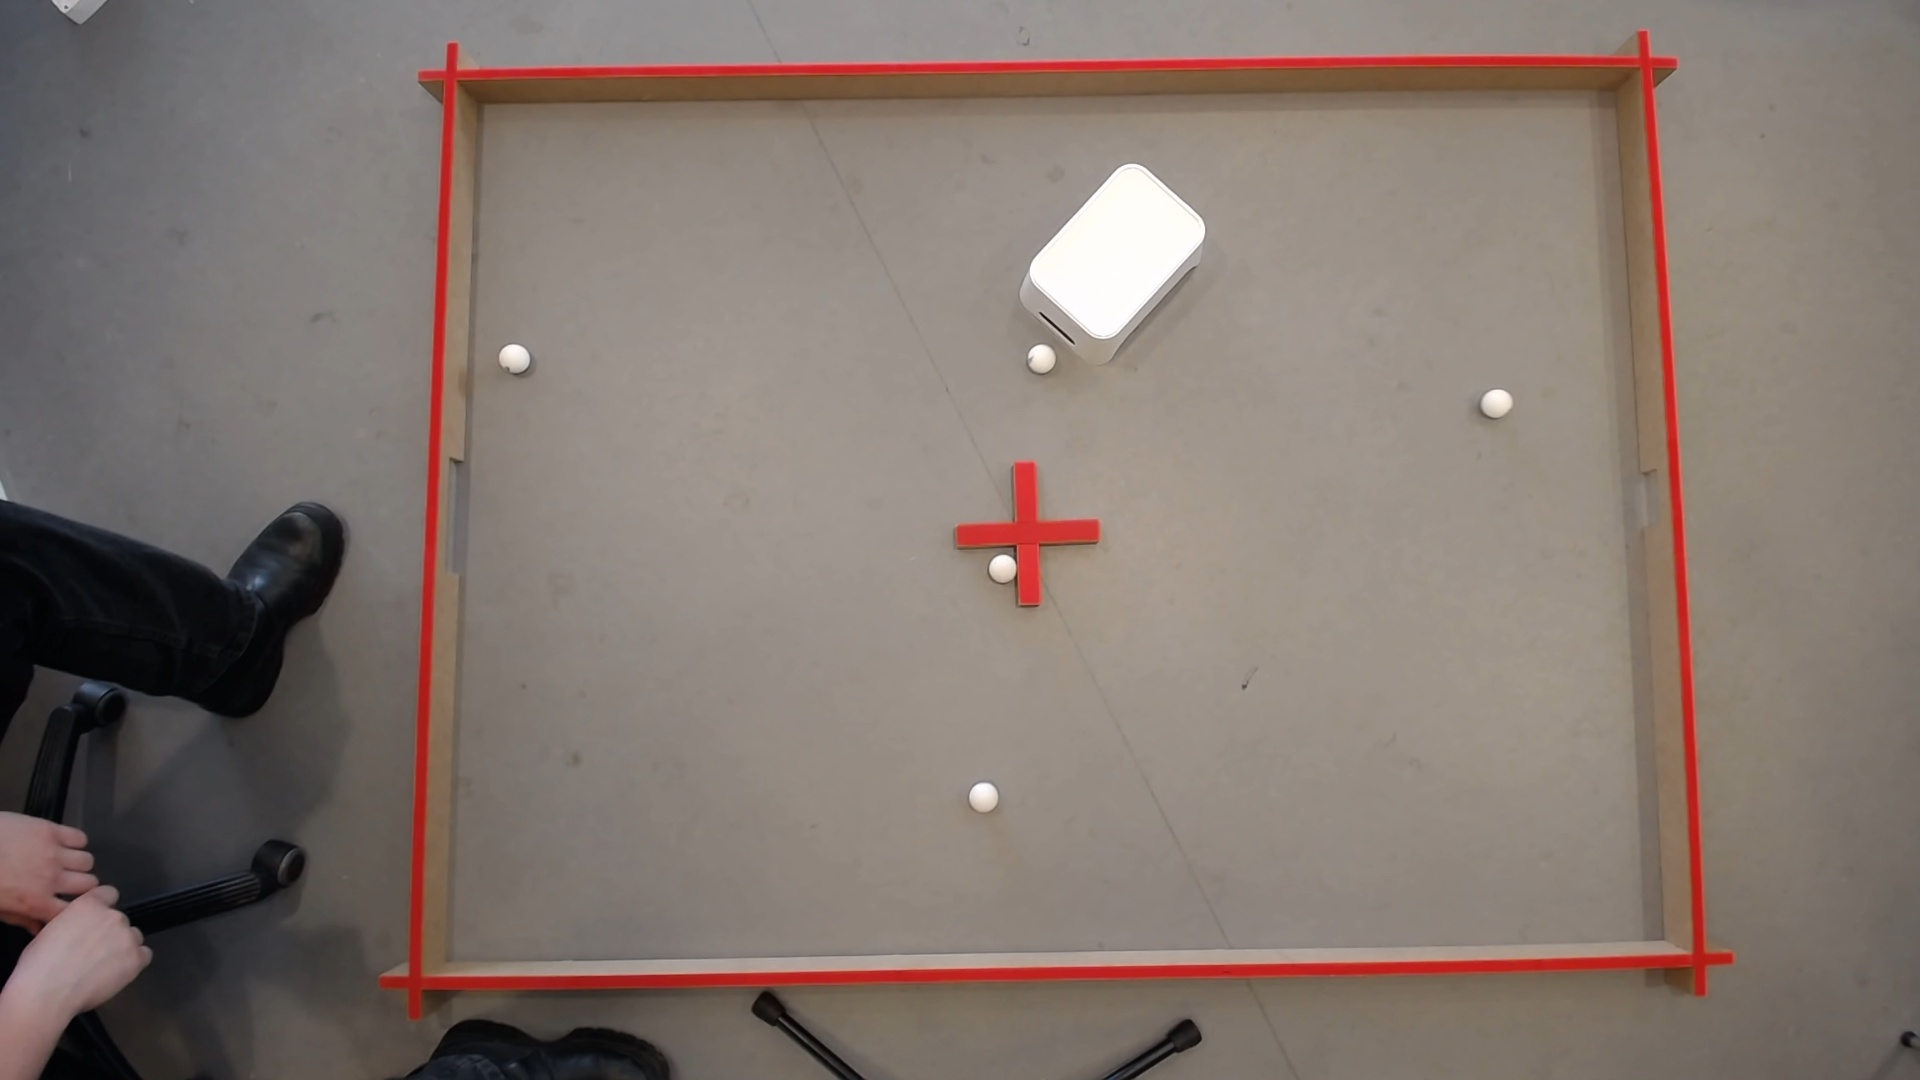balls: (1019, 150, 1215, 348), (1480, 382, 1514, 415), (497, 339, 531, 369), (967, 777, 998, 808), (988, 550, 1018, 579)
car: (1026, 339, 1055, 369)
